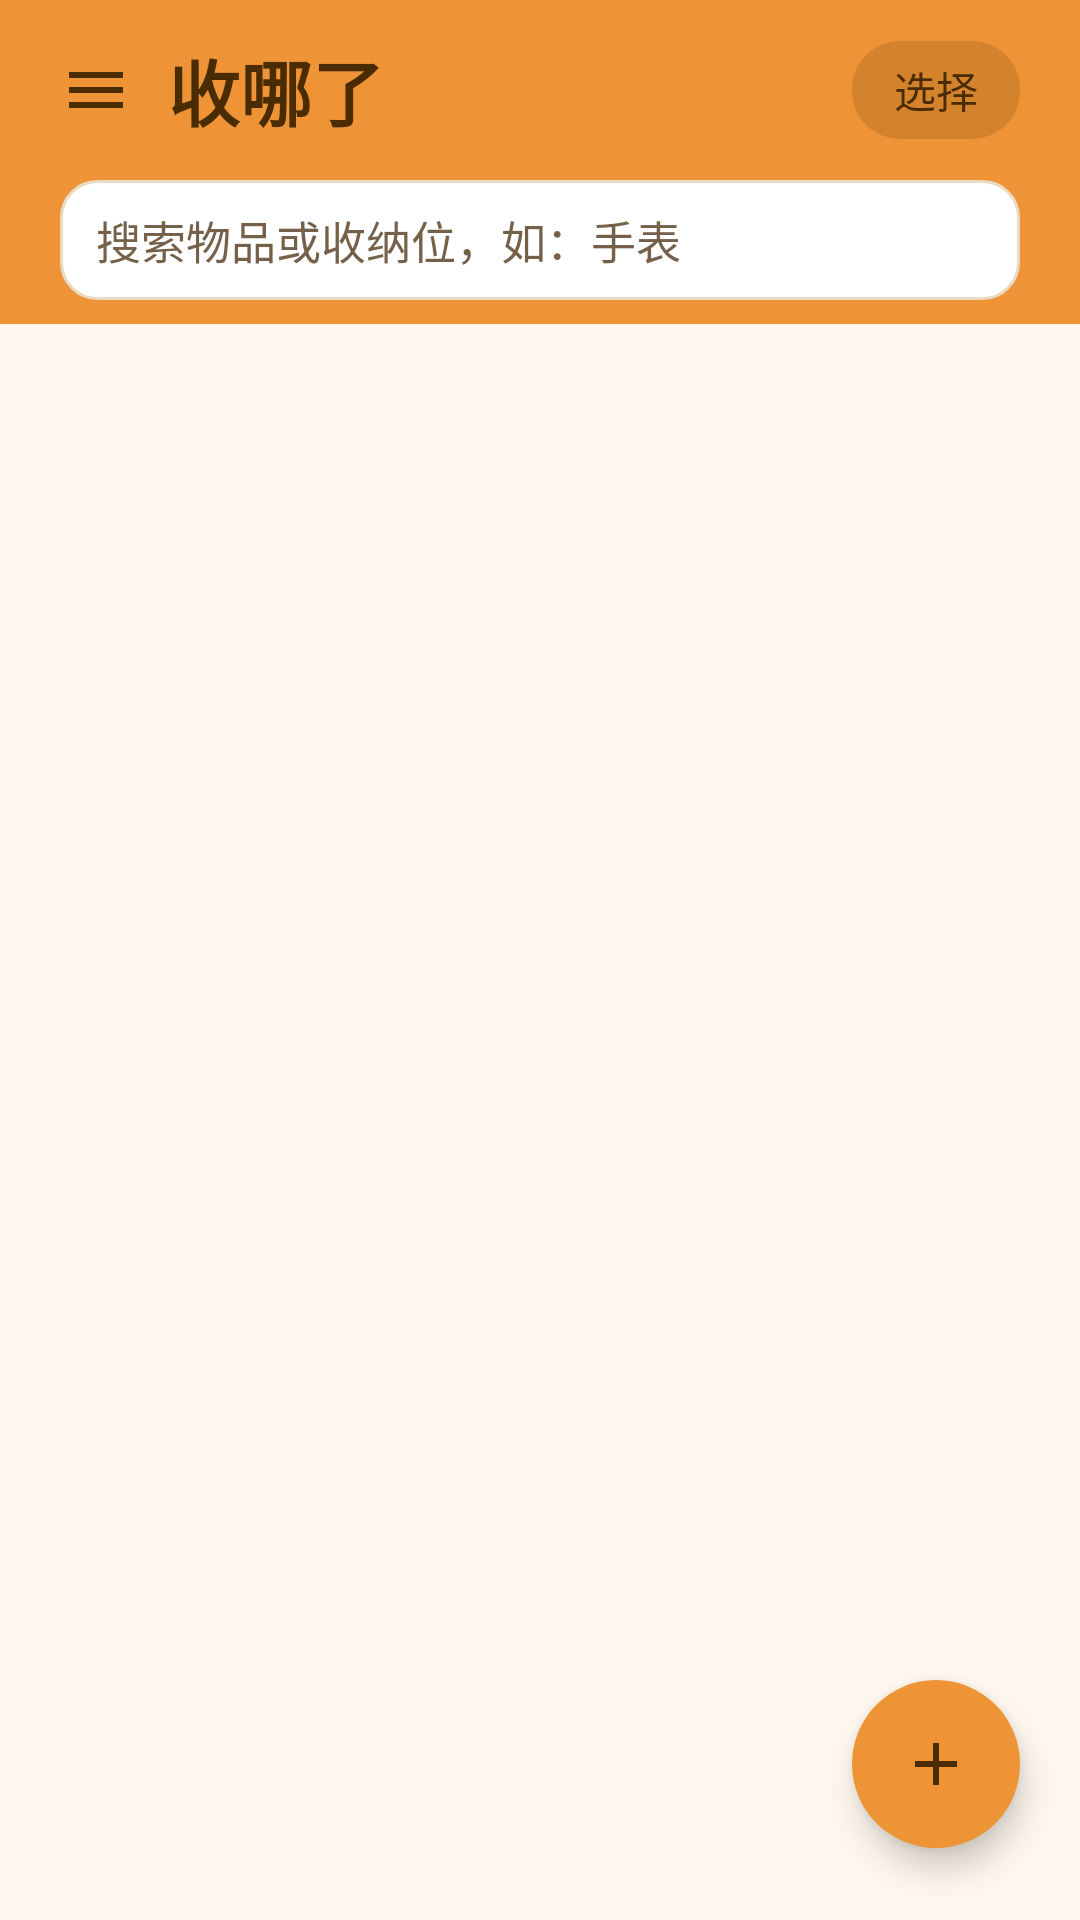

Icons on this 1080w x 1920h Android screen, each with its box as (x1, y1, x2, y2):
打开菜单: (69, 72, 123, 108)
新建收纳空间: (915, 1743, 957, 1785)
